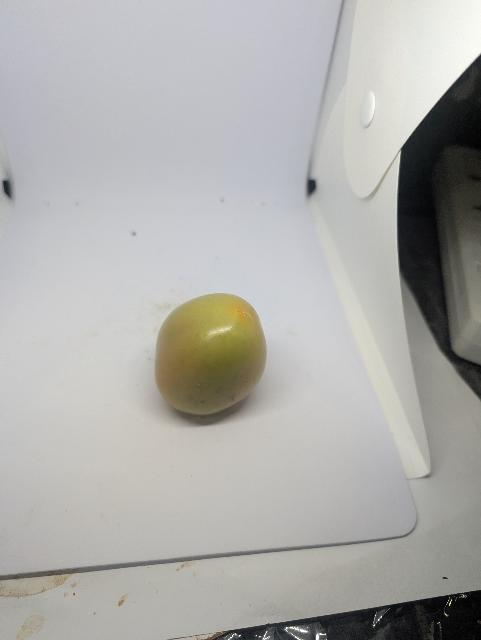breaker: (154, 290, 272, 424)
